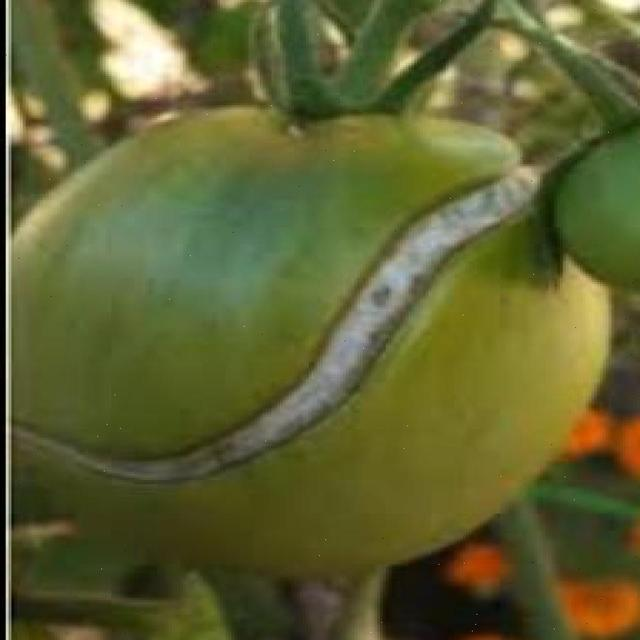Cracking Fruit: (3, 103, 362, 332)
